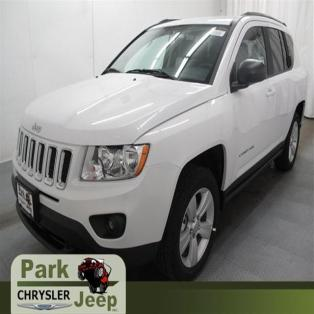Auto: (11, 11, 307, 283)
